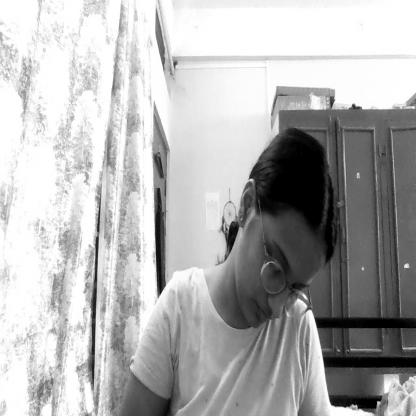Distracted: (236, 131, 331, 331)
